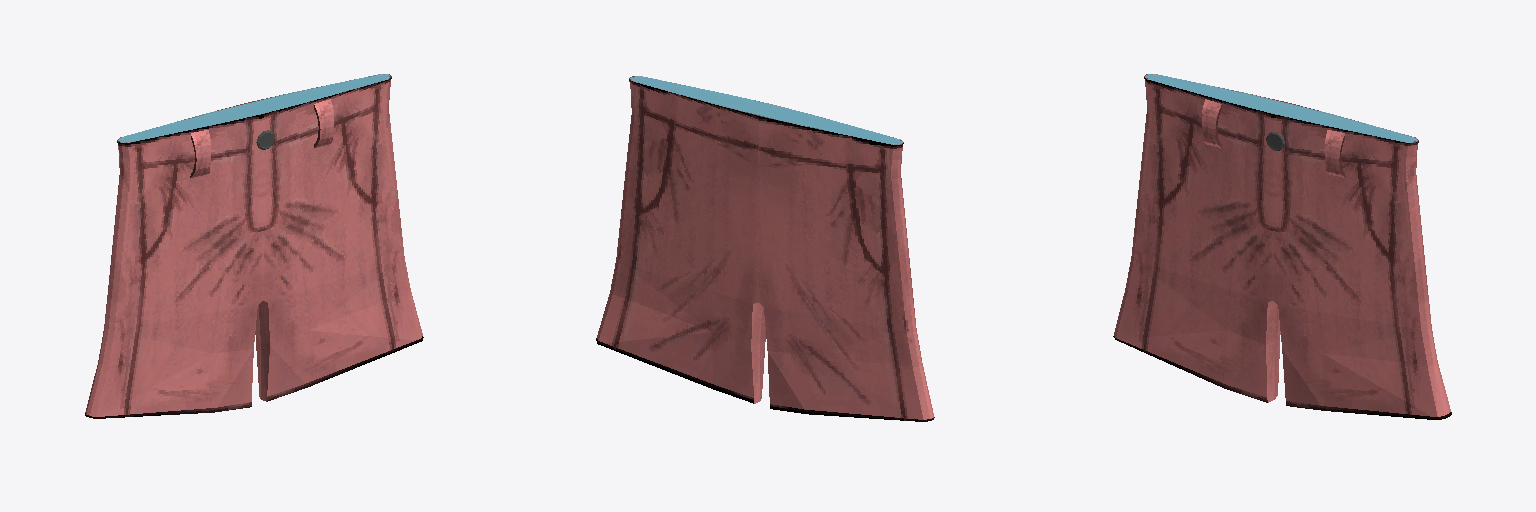
3 renders of one model, left to right at view 1: azimuth 30°, elevation 25°; view 2: azimuth 150°, elevation 25°; view 3: azimuth 330°, elevation 25°, orthographic.
Parts seen in each view (by area): view 1: SalmonShorts; view 2: SalmonShorts; view 3: SalmonShorts.
Boxes of the visible parts, x1=… form: SalmonShorts: x1=85, y1=74, x2=423, y2=418; SalmonShorts: x1=596, y1=76, x2=934, y2=421; SalmonShorts: x1=1113, y1=74, x2=1451, y2=419.
Bounding box in the file's own units: 0.8641 × 0.7202 × 0.0866.
1 materials, 1 textured.